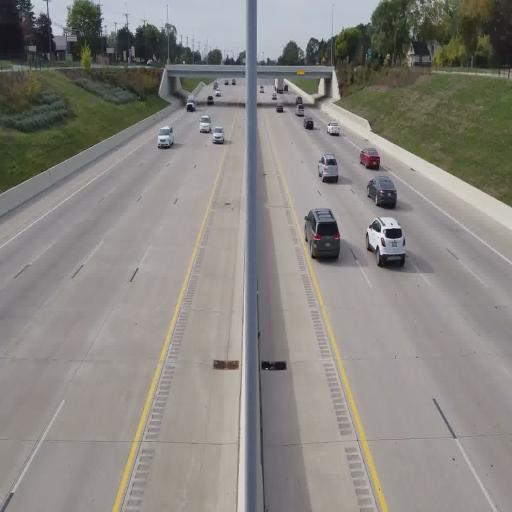Car: (365, 216, 406, 268), (304, 208, 341, 260), (367, 174, 397, 208), (318, 153, 338, 183), (157, 125, 174, 149), (212, 125, 226, 144), (199, 114, 211, 134), (326, 120, 340, 136), (186, 96, 196, 112), (303, 116, 314, 130)
Truck: (359, 146, 380, 170)
